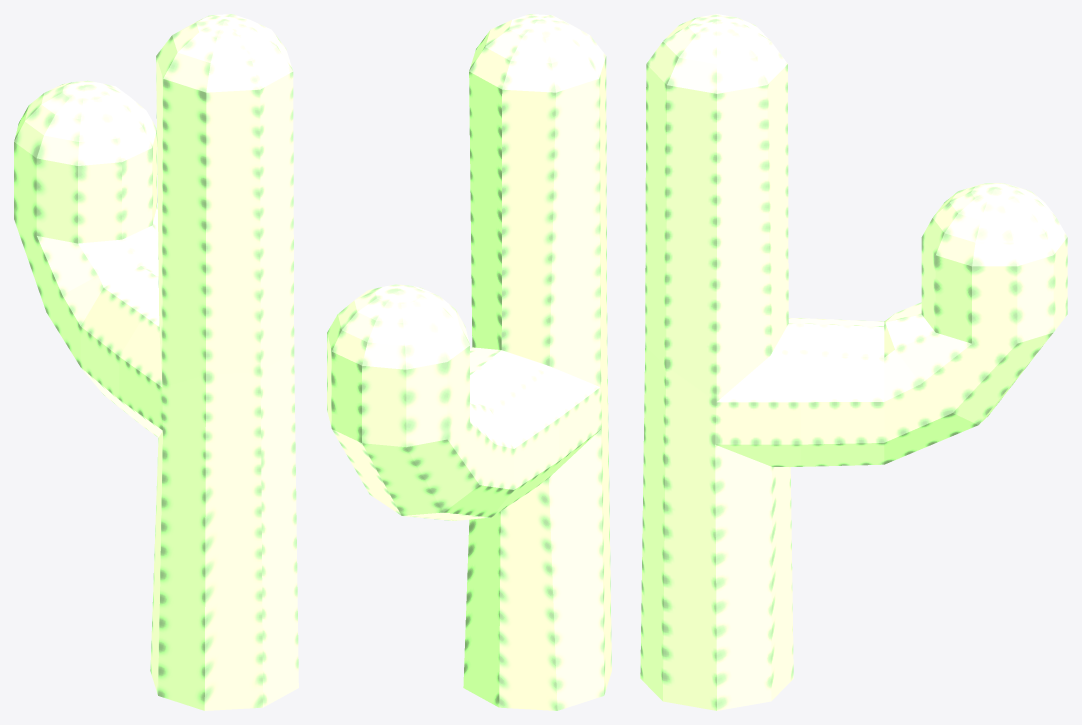
Rendered from cacti.fbx.
3 views of the same model, side by side, from view 1: azimuth 30°, elevation 25°; view 2: azimuth 150°, elevation 25°; view 3: azimuth 270°, elevation 25° (orthographic).
Parts seen in each view (by area): view 1: Sphere; view 2: Sphere; view 3: Sphere.
Boxes of the visible parts, <box> form: Sphere: <box>14,14,298,710</box>; Sphere: <box>327,14,611,710</box>; Sphere: <box>640,14,1067,710</box>.
Size of the model in its own units: 557 by 946 by 200.
